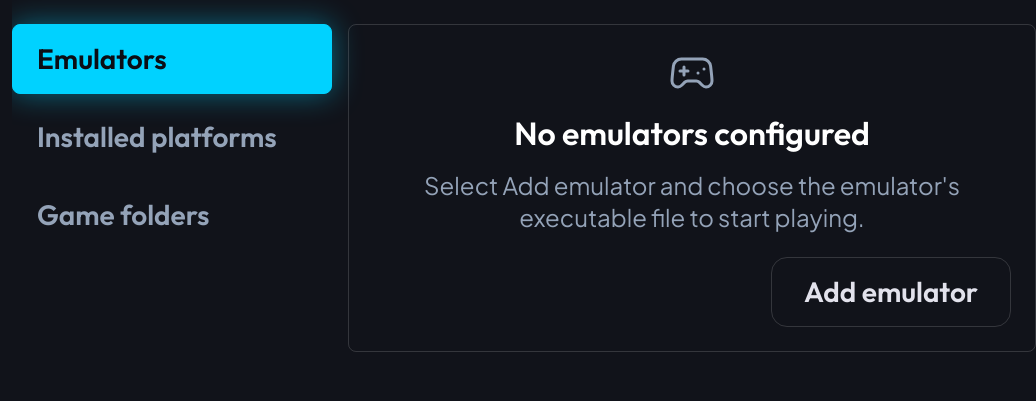
Test: SettingsScreen › takes the user to the emulators from the empty game folders, with no platform played
Press Arrowdown Arrowdown
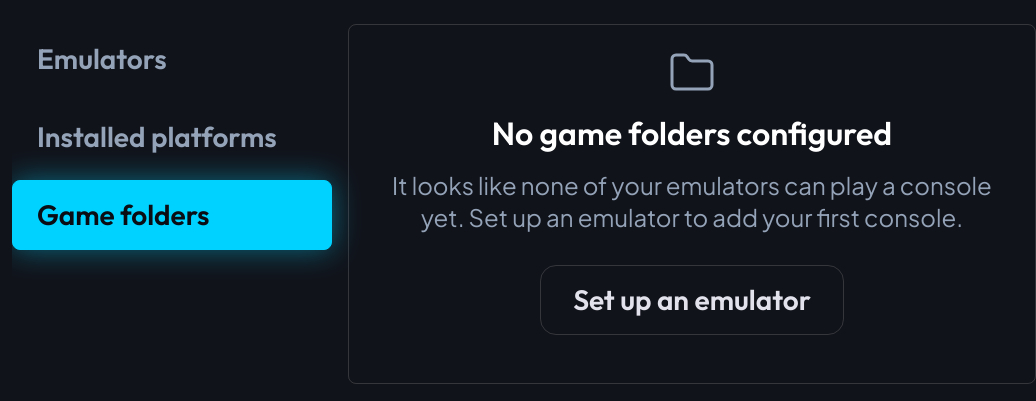
Click the button "Set up an emulator": click(692, 300) [540, 265, 844, 335]
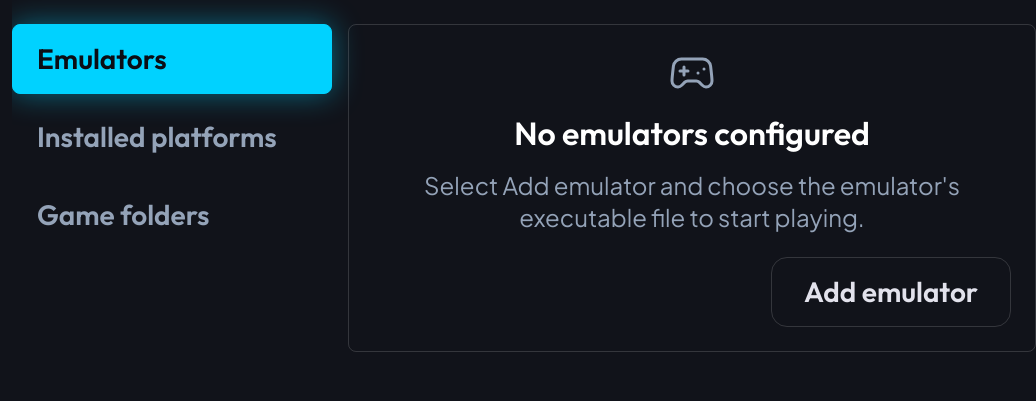
Result: the heading "No emulators configured" is shown at [514, 113, 870, 153]
